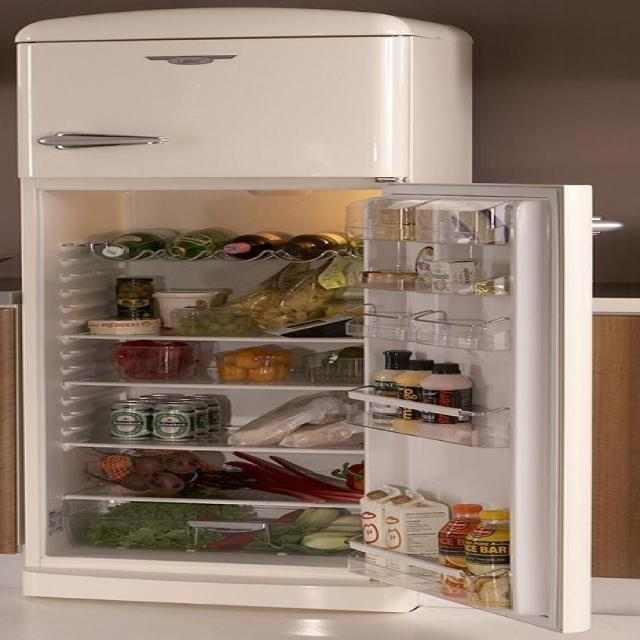obstacle: (11, 6, 599, 633)
